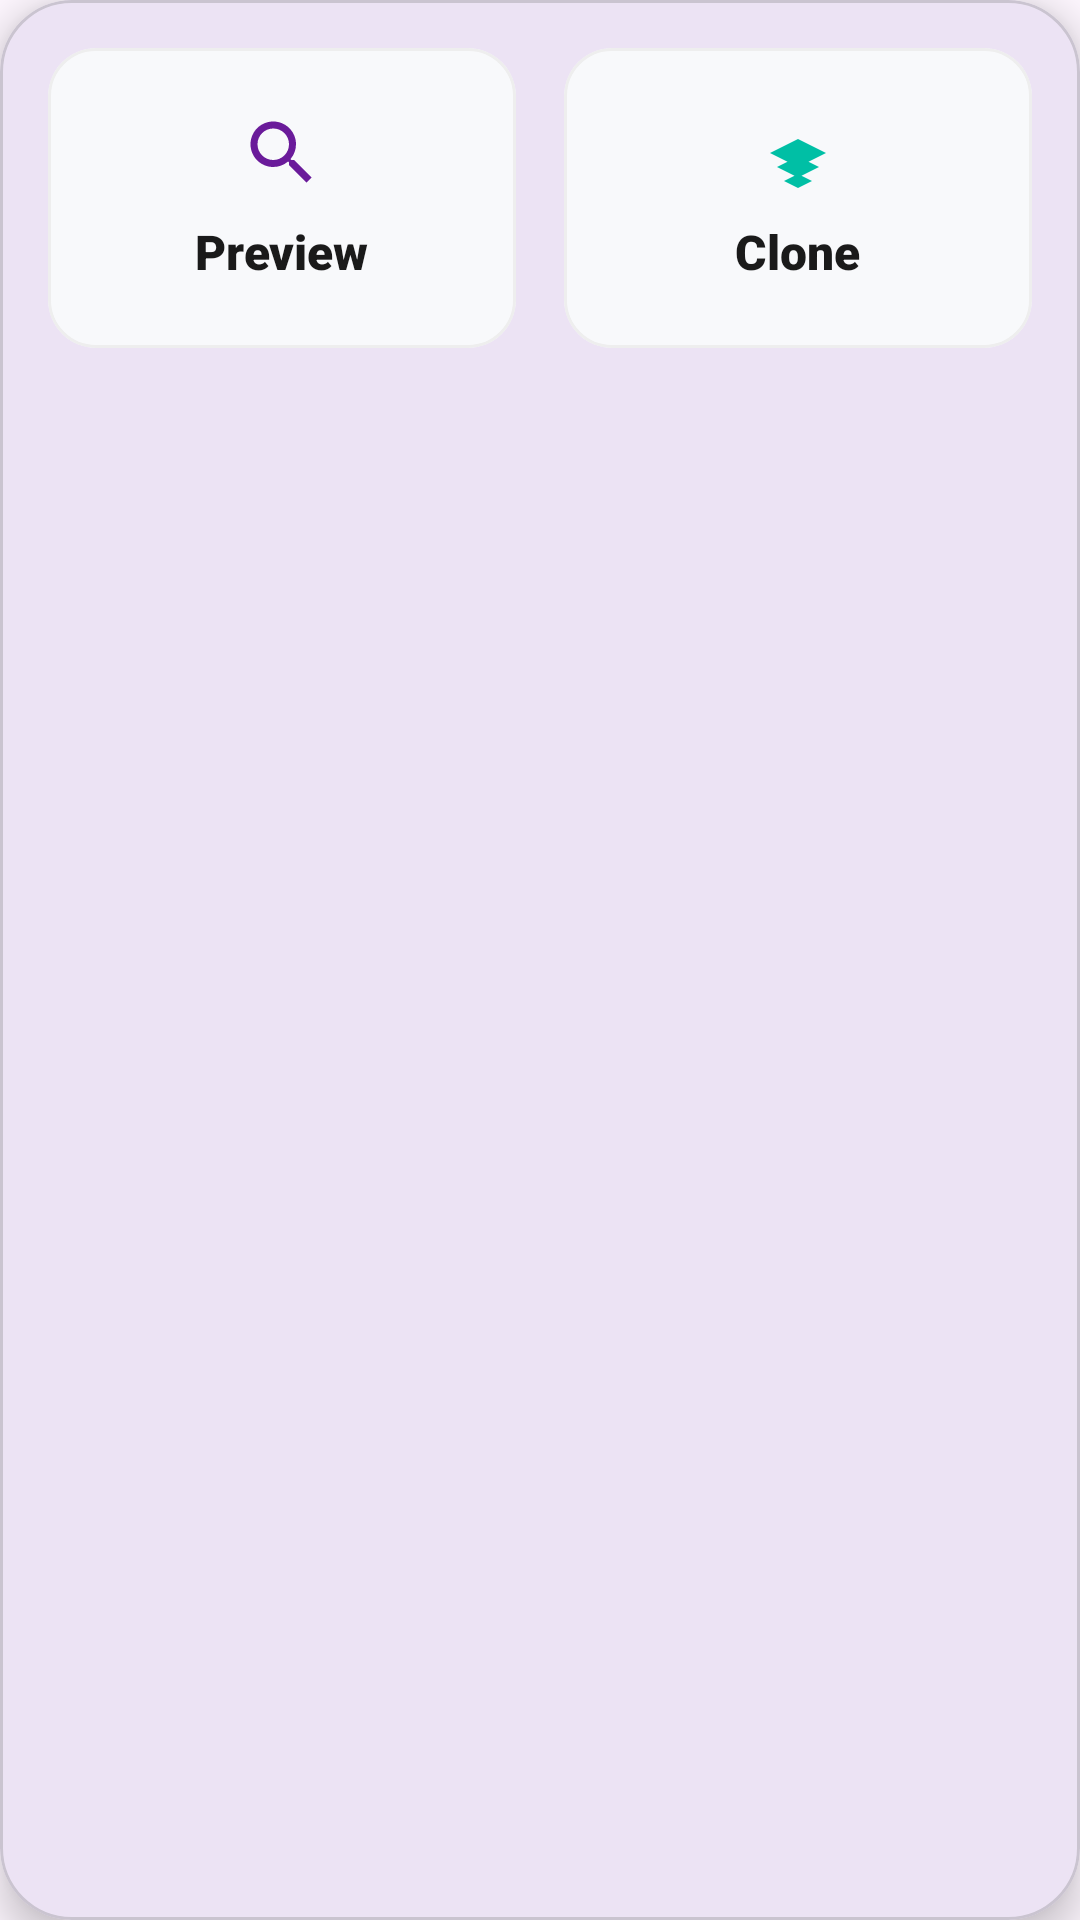

Icons on this 1080*1920 Android screen, each with its box as (x1=x1, y1=y1, x2=x2, y2=y2):
layers: (x1=770, y1=139, x2=826, y2=188)
search: (x1=250, y1=121, x2=312, y2=183)
